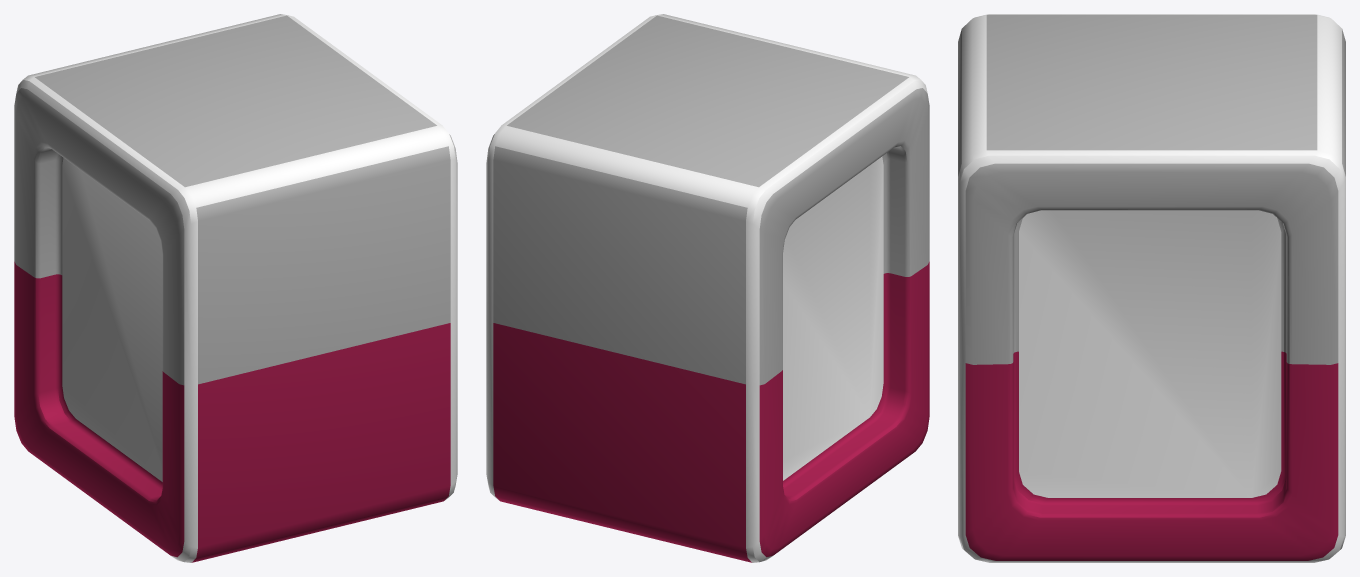
File: NapkinHolder.fbx
The picture shows the model from 3 angles, left to right: view 1: azimuth 30°, elevation 25°; view 2: azimuth 150°, elevation 25°; view 3: azimuth 270°, elevation 25°; orthographic projection. The views are drawn at different scales.
Parts seen in each view (by area): view 1: NapkinHolder; view 2: NapkinHolder; view 3: NapkinHolder.
Part boxes in pixels (x1,y1,x2,y2): NapkinHolder: (14, 14, 457, 562); NapkinHolder: (486, 14, 929, 562); NapkinHolder: (958, 14, 1345, 562).
Bounding box in the file's own units: 40.17 × 51.96 × 44.46.
